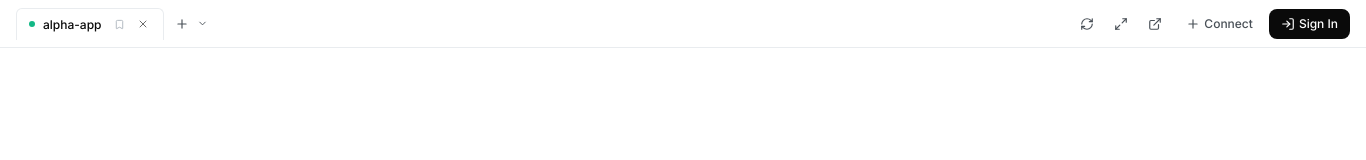
Test: Surgical Features & Fixes › 1. Connected Apps (+) Button Behavior › clicking + opens a new empty workspace without duplicating the active application
Step 1. Click the button named "open new application window" → (182, 24), box [168, 10, 196, 38]
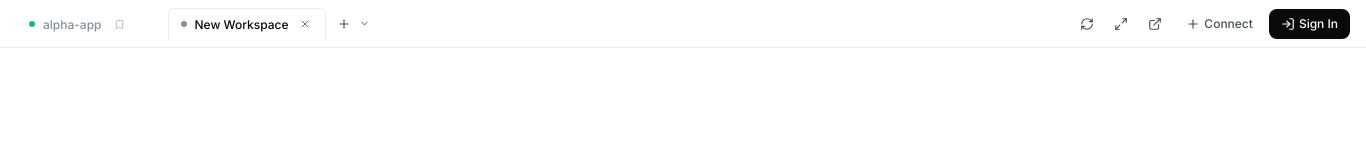
Expected: the text "New Workspace" is shown, [194, 16, 289, 32]
